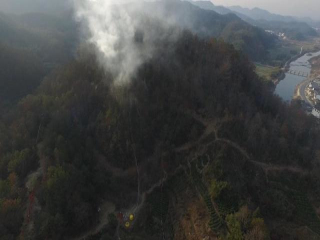smoke: (72, 1, 193, 92)
